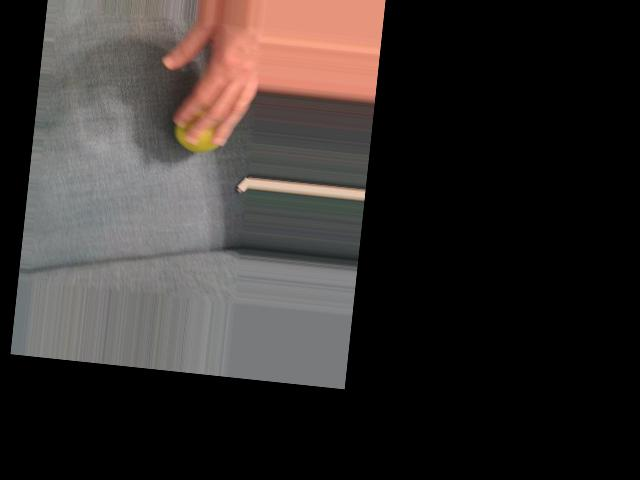apple: (166, 77, 238, 169)
